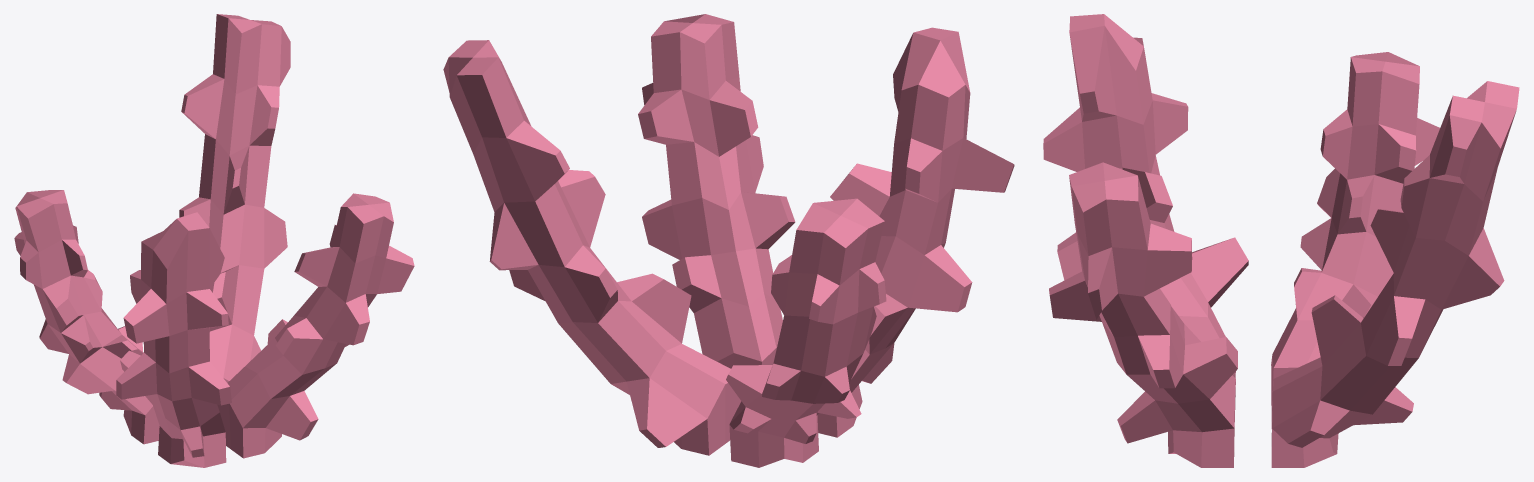
File: Coral3.fbx
3 views of the same model, side by side, from view 1: azimuth 30°, elevation 25°; view 2: azimuth 150°, elevation 25°; view 3: azimuth 270°, elevation 25° (orthographic). The views are drawn at different scales.
Parts seen in each view (by area): view 1: Cube.005, Cube.007, Cube.006, Cube.001; view 2: Cube.005, Cube.007, Cube.006, Cube.001; view 3: Cube.005, Cube.007, Cube.001, Cube.006.
Part boxes in pixels (box(x1,y1,x2,y2)): Cube.005: box(179, 14, 290, 382); Cube.007: box(217, 193, 414, 458); Cube.006: box(116, 212, 231, 467); Cube.001: box(14, 190, 159, 444); Cube.005: box(443, 40, 741, 455); Cube.007: box(638, 14, 795, 368); Cube.006: box(817, 27, 1014, 437); Cube.001: box(726, 198, 886, 467); Cube.005: box(1271, 81, 1519, 467); Cube.007: box(1049, 162, 1237, 467); Cube.001: box(1271, 52, 1439, 428); Cube.006: box(1043, 14, 1248, 377).
Size of the model in its own units: 219 by 225 by 227.
